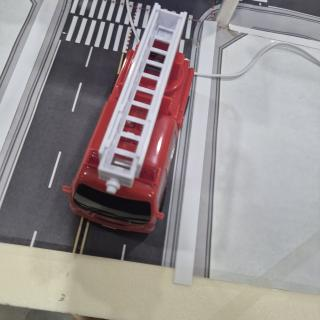Fire_truck: (62, 3, 194, 233)
